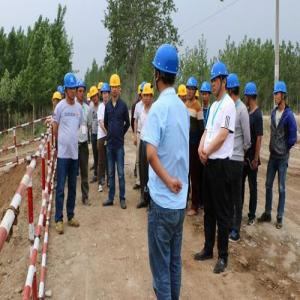blue: (152, 42, 182, 99), (210, 60, 228, 99), (63, 71, 78, 104), (225, 72, 241, 102), (244, 82, 261, 109), (273, 81, 288, 108), (186, 77, 199, 103), (201, 81, 213, 106), (76, 80, 87, 103), (101, 82, 111, 102)
yellow: (109, 73, 122, 100), (142, 82, 155, 108), (89, 84, 101, 107), (179, 82, 188, 103), (52, 91, 62, 109)
